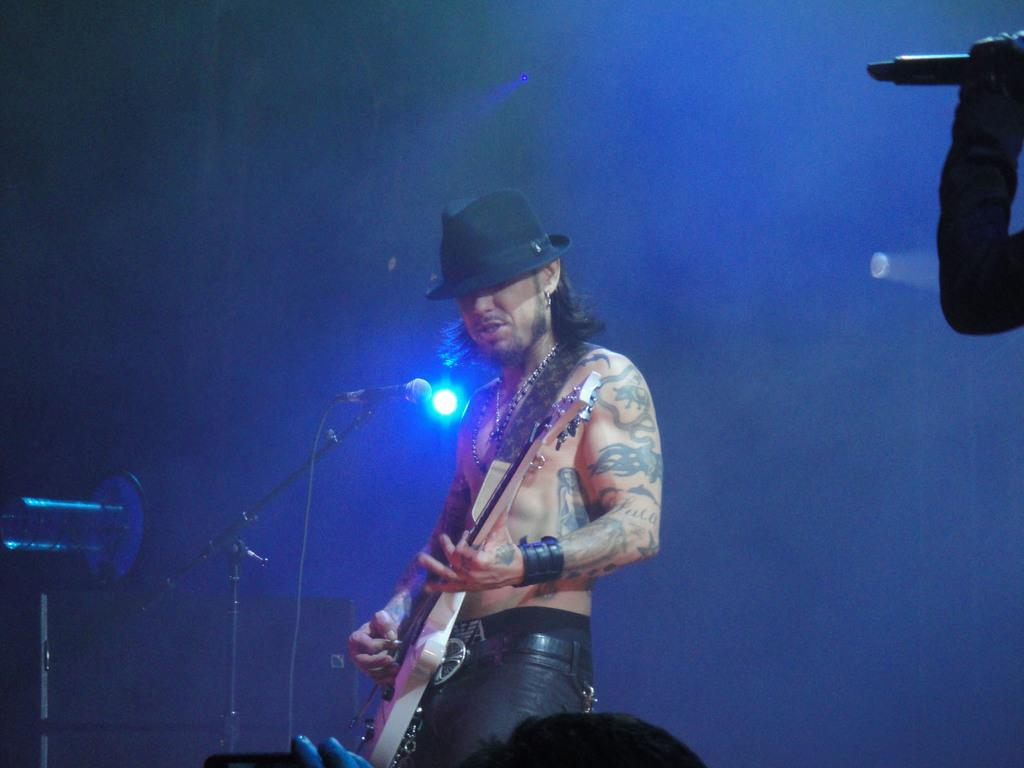Hat: (424, 187, 574, 302)
